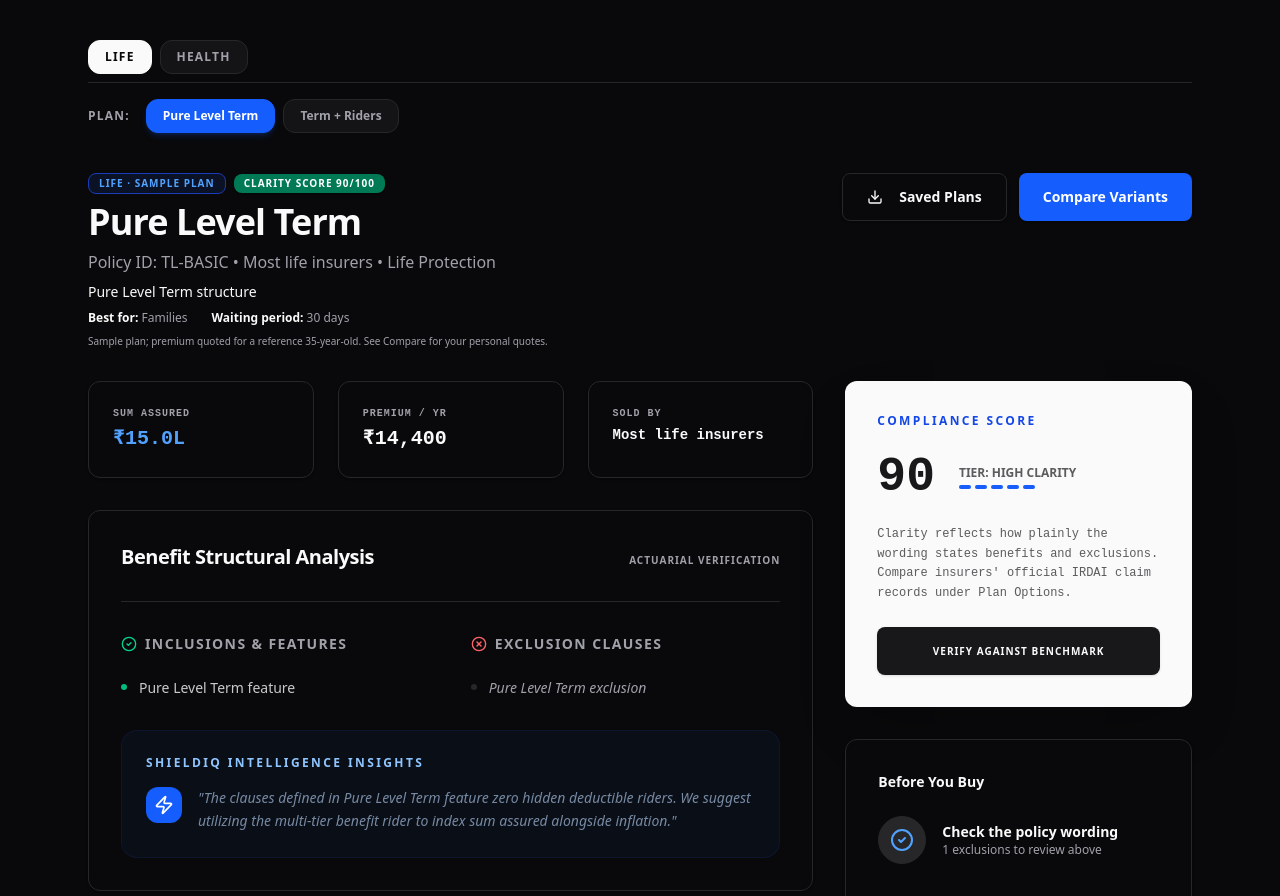
Scenario: PolicyDeepDiveView Component › switches by cover type, then by plan within the type
Step 1. Click the button "Health" → click(204, 57), box [160,40,248,74]
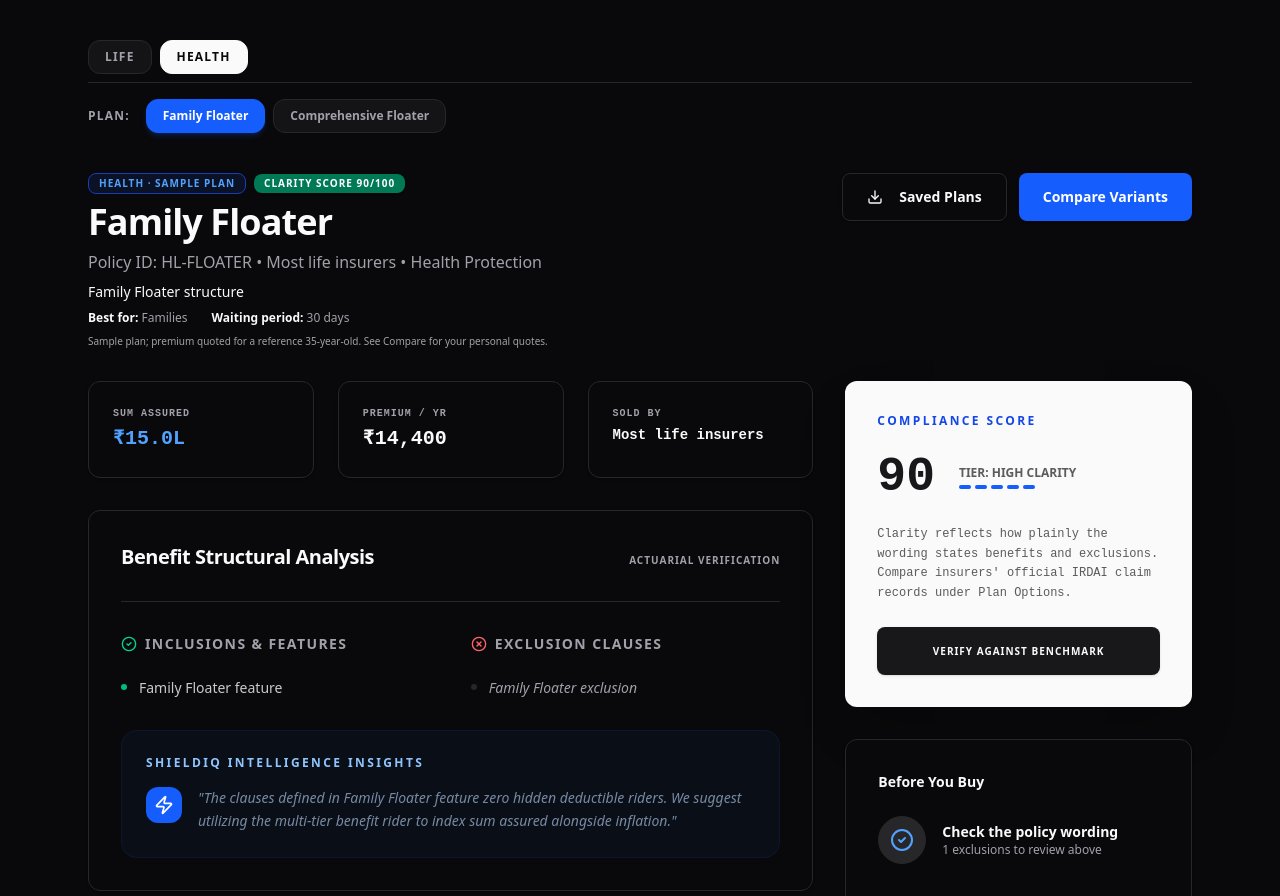
Now the heading "Family Floater" is shown, box [88,197,332,246]
Now the button "Term + Riders" is gone
Step 2. Click the button "Comprehensive Floater" → click(360, 116), box [273,99,446,133]
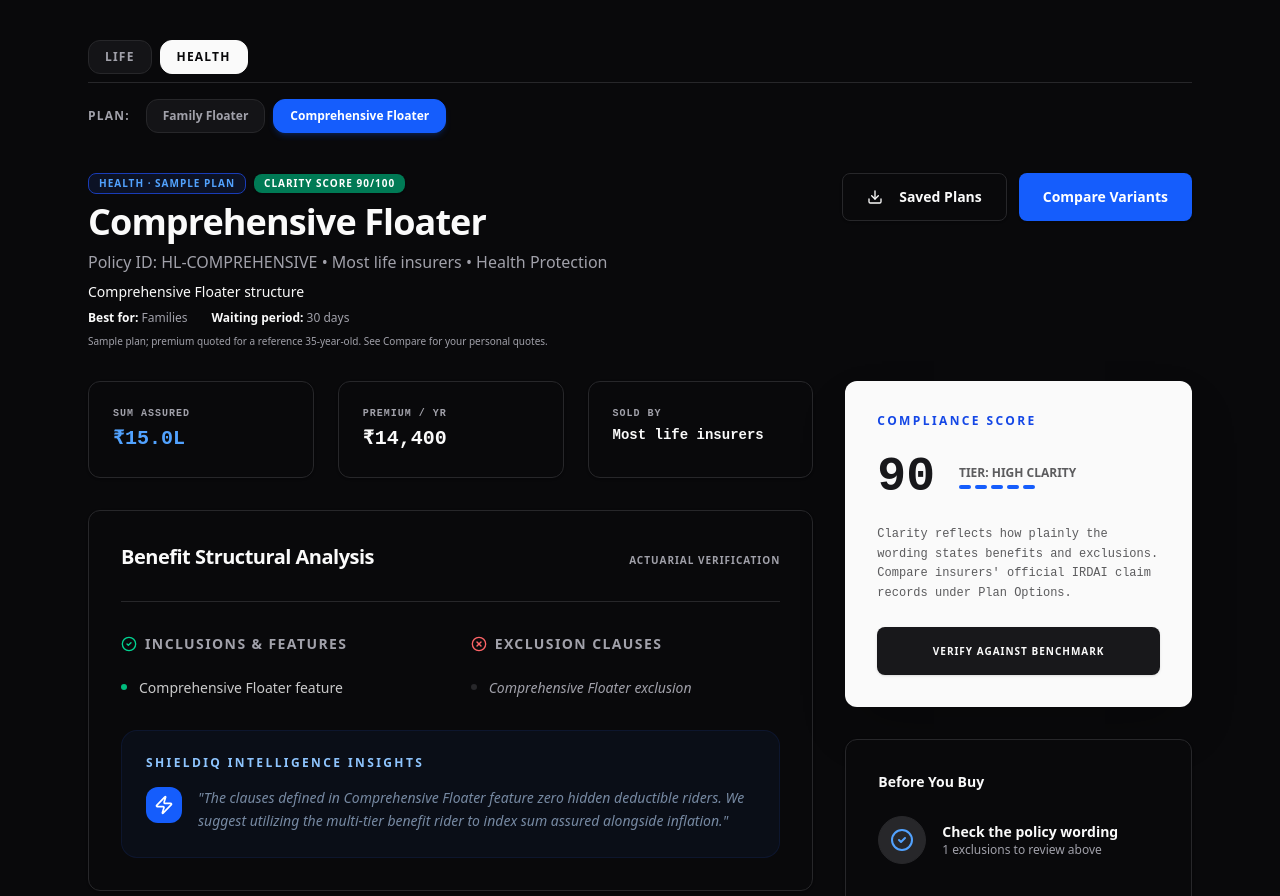
Now the heading "Comprehensive Floater" is shown, box [88,197,486,246]
